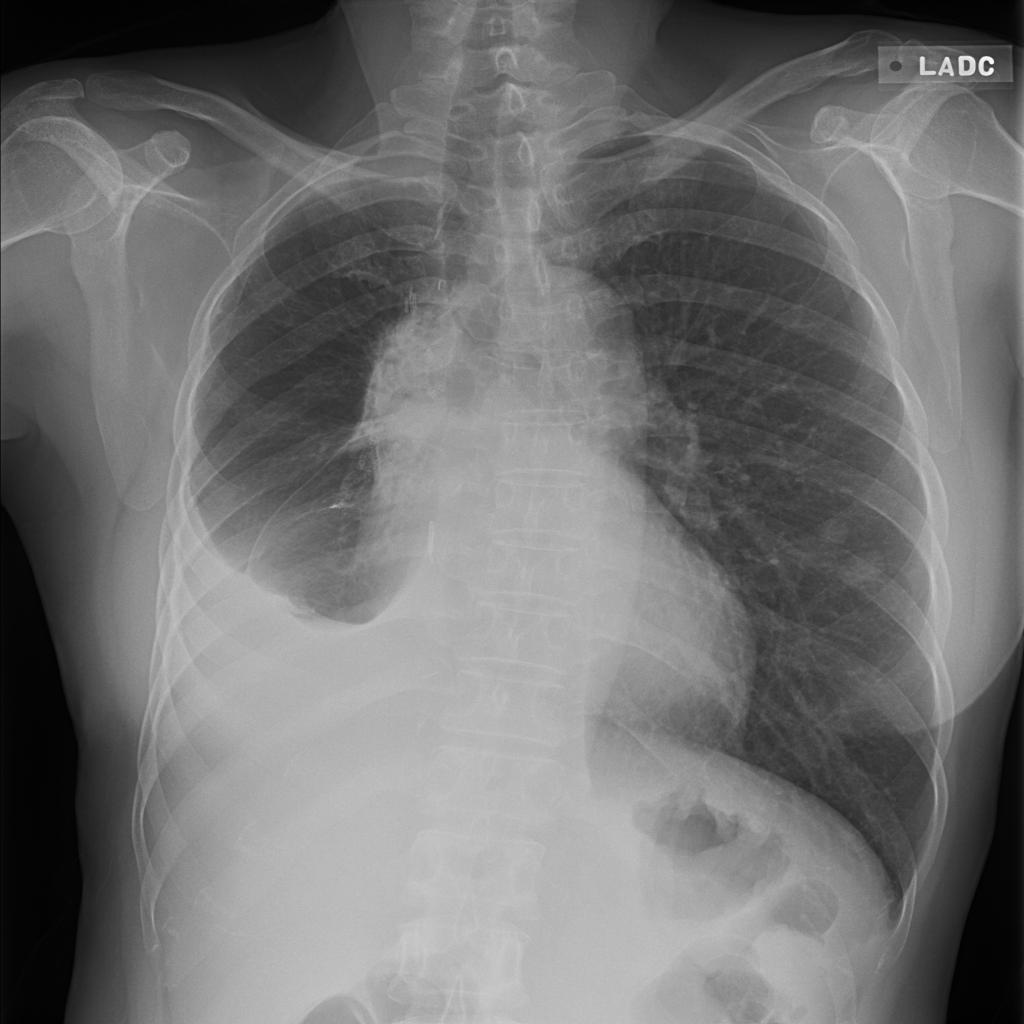Nodule: (378, 79, 417, 95)
